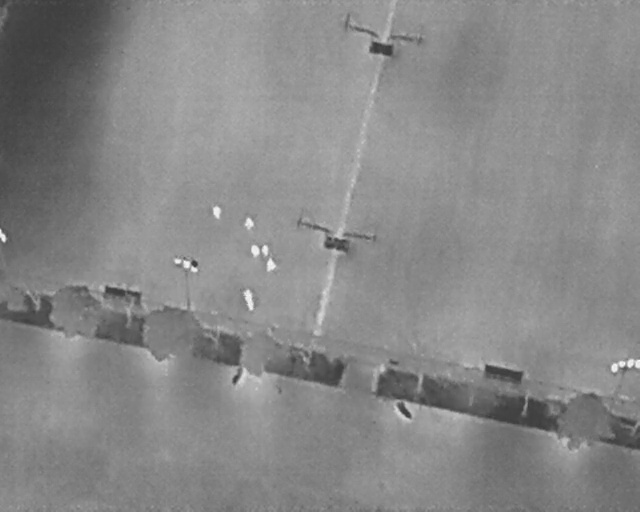Person: (266, 257, 276, 272), (243, 287, 253, 301), (213, 205, 222, 220), (251, 244, 260, 259), (245, 216, 254, 230), (246, 298, 255, 312), (262, 243, 269, 257)
